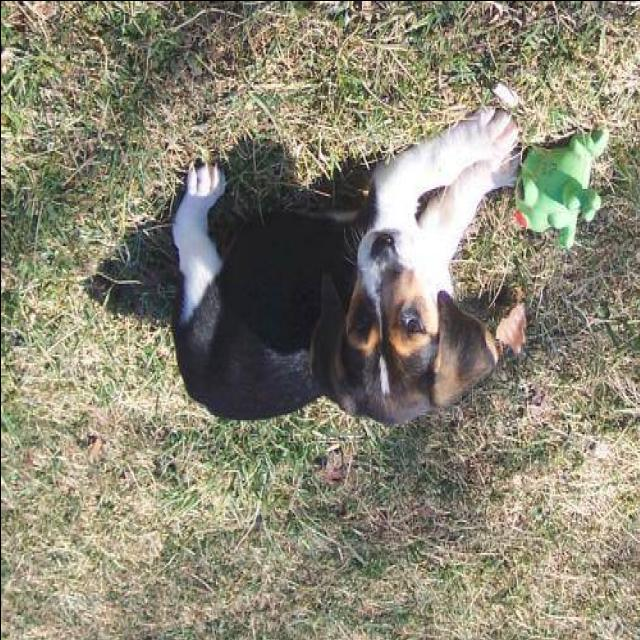dog: (111, 76, 531, 444)
